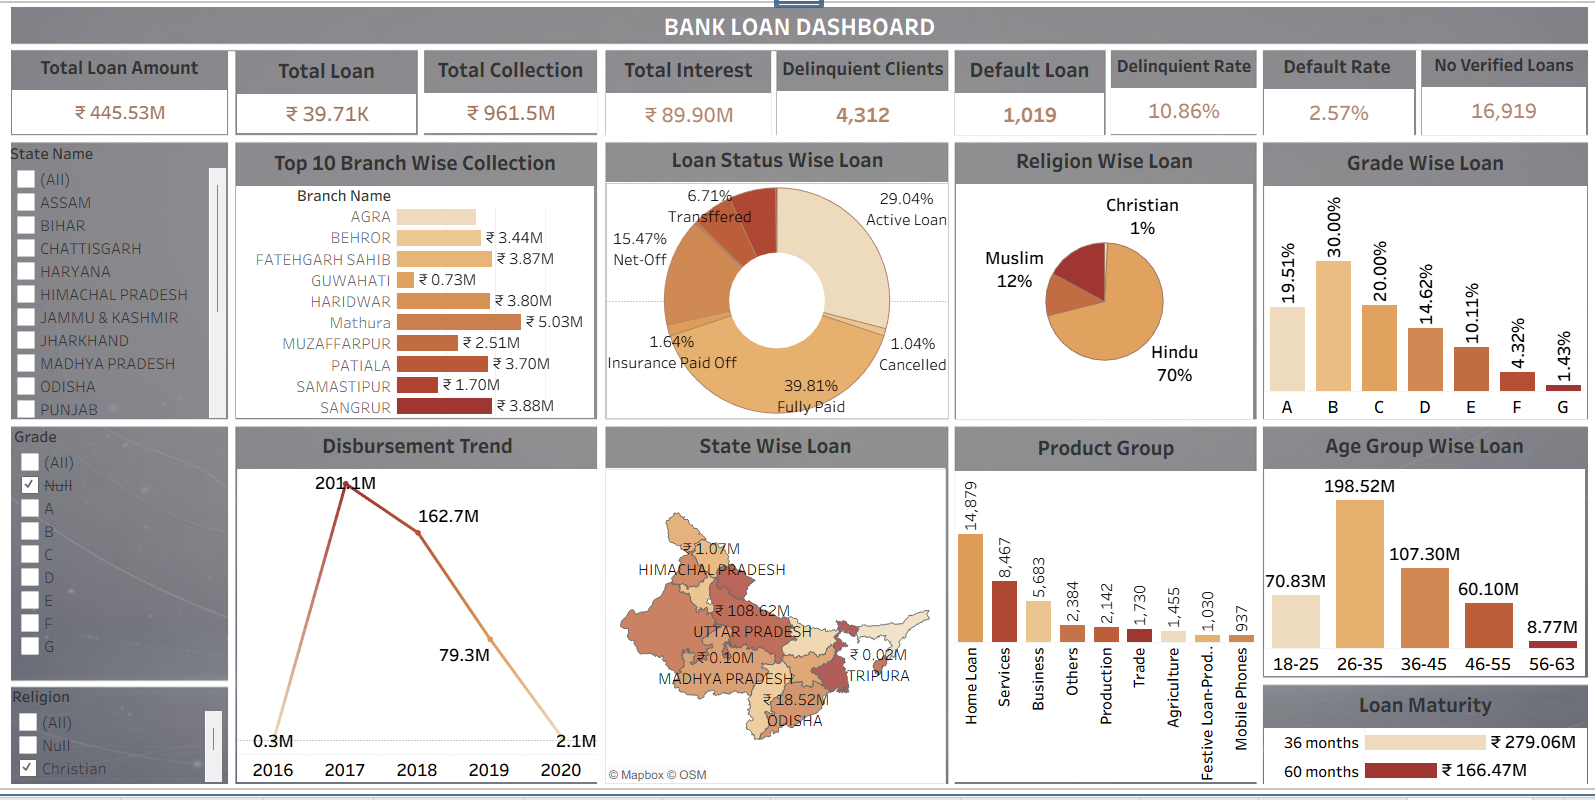

What the dashboard file says about the page in this screenshot:
{"tool":"tableau","page":{"name":"Dashboard 1","canvas":[1000,1000],"units":"permille","ordinal":0},"visuals":[{"type":"image","param":"Image/Dashboard Image 1.jpg","box":[4.8,10,990.3,980]},{"type":"text","box":[25.4,16.2,949.3,43.7]},{"type":"worksheet","title":"Default_Rate","mark":"Automatic","box":[780.3,67.4,90.5,109.9]},{"type":"worksheet","title":"No_Verified_Loans","mark":"Automatic","box":[875.7,67.4,99,107.4]},{"type":"worksheet","title":"Total_Loan_Amount","mark":"Automatic","box":[24.7,68.7,129.8,104.9]},{"type":"worksheet","title":"Delinquient_Rate","mark":"Automatic","box":[688,68.7,88.1,104.9]},{"type":"worksheet","title":"Total_Collection","mark":"Automatic","box":[273.4,69.9,104.4,102.4]},{"type":"worksheet","title":"Total_Interest","mark":"Automatic","box":[383.2,69.9,99.6,106.1]},{"type":"worksheet","title":"Delinquient Clients","mark":"Automatic","box":[486.4,69.9,103.8,107.4]},{"type":"worksheet","title":"Default_Loan","mark":"Automatic","box":[593.8,69.9,89.9,104.9]},{"type":"worksheet","title":"Total_Loan","mark":"Automatic","box":[160.5,71.2,108,101.1]},{"type":"worksheet","title":"Loan_Status_Wise_Loan","mark":"Pie","rows":["Calculation_2748321723142332421","Calculation_2748321723142332421"],"box":[383.2,182.3,207,347.1]},{"type":"worksheet","title":"Religion_Wise_Loan","mark":"Pie","box":[594.5,183.5,179.2,345.8]},{"type":"filter","title":"State_Wise_Loan","param":"[federated.1vog0cc1tld81s18qdwde1qh66yj].[none:State Name:nk]","box":[23.5,184.8,130.4,343.3]},{"type":"worksheet","title":"Branch_Wise_Collection","mark":"Automatic","rows":["Branch Name"],"box":[159.9,186,216.1,342.1]},{"type":"worksheet","title":"Garde_Wise_Loan","mark":"Automatic","rows":["Loan Amount"],"cols":["Grade"],"box":[780.3,186,194.9,343.3]},{"type":"filter","title":"Garde_Wise_Loan","param":"[federated.1vog0cc1tld81s18qdwde1qh66yj].[none:Grade:nk]","box":[25.9,538.1,127.9,317.1]},{"type":"worksheet","title":"Disbursement_Trend","mark":"Automatic","rows":["Loan Amount"],"cols":["Disbursement Date"],"box":[160.5,539.3,217.9,443.2]},{"type":"worksheet","title":"State_Wise_Loan","mark":"Multipolygon","box":[382.6,539.3,205.8,445.7]},{"type":"worksheet","title":"Age_Group_Wise_Loan","mark":"Automatic","rows":["Loan Amount"],"cols":["Age"],"box":[780.3,539.3,193.7,310.9]},{"type":"worksheet","title":"Product _Group","mark":"Automatic","rows":["Loan Amount"],"cols":["Purpose Category"],"box":[593.2,541.8,183.5,440.7]},{"type":"filter","title":"Religion_Wise_Loan","param":"[federated.1vog0cc1tld81s18qdwde1qh66yj].[none:Religion:nk]","box":[24.7,862.7,126.7,119.9]},{"type":"worksheet","title":"Loan_Maturity","mark":"Automatic","rows":["Term"],"cols":["Loan Amount"],"box":[780.3,862.7,194.9,123.6]}]}

Visuals, with their boxes on the dashboard's canvas, which has no fixed pixel size, in thousandths of its width and height (x1, y1, x2, y2). These are canvas units, not pixel positions in the 1595x800 screenshot, which may show the page scaled, cropped or inside an application window:
image: <box>5,10,995,990</box>
text: <box>25,16,975,60</box>
"Default_Rate" worksheet: <box>780,67,871,177</box>
"No_Verified_Loans" worksheet: <box>876,67,975,175</box>
"Total_Loan_Amount" worksheet: <box>25,69,154,174</box>
"Delinquient_Rate" worksheet: <box>688,69,776,174</box>
"Total_Collection" worksheet: <box>273,70,378,172</box>
"Total_Interest" worksheet: <box>383,70,483,176</box>
"Delinquient Clients" worksheet: <box>486,70,590,177</box>
"Default_Loan" worksheet: <box>594,70,684,175</box>
"Total_Loan" worksheet: <box>160,71,268,172</box>
"Loan_Status_Wise_Loan" worksheet (Pie marks): <box>383,182,590,529</box>
"Religion_Wise_Loan" worksheet (Pie marks): <box>594,184,774,529</box>
"State_Wise_Loan" filter: <box>24,185,154,528</box>
"Branch_Wise_Collection" worksheet: <box>160,186,376,528</box>
"Garde_Wise_Loan" worksheet: <box>780,186,975,529</box>
"Garde_Wise_Loan" filter: <box>26,538,154,855</box>
"Disbursement_Trend" worksheet: <box>160,539,378,982</box>
"State_Wise_Loan" worksheet (Multipolygon marks): <box>383,539,588,985</box>
"Age_Group_Wise_Loan" worksheet: <box>780,539,974,850</box>
"Product _Group" worksheet: <box>593,542,777,982</box>
"Religion_Wise_Loan" filter: <box>25,863,151,983</box>
"Loan_Maturity" worksheet: <box>780,863,975,986</box>
